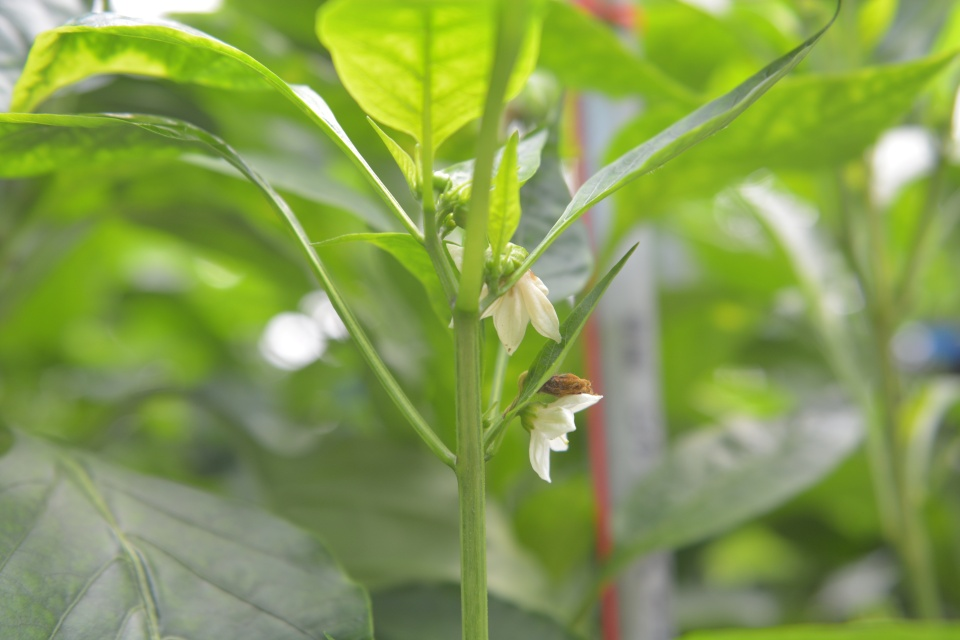flower: (446, 243, 565, 357), (525, 389, 603, 484)
